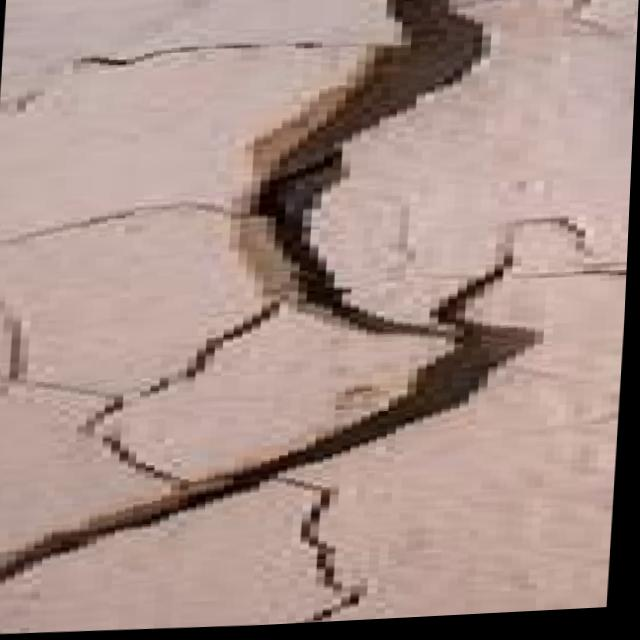Crack: (0, 322, 547, 613), (218, 0, 538, 353)
